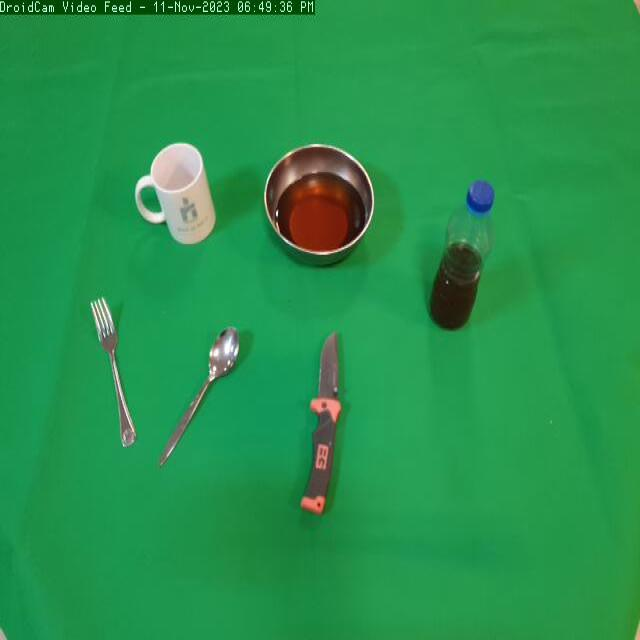cup: (132, 134, 225, 259)
fork: (84, 286, 149, 454)
fullbottle: (424, 175, 500, 346)
fullbowl: (254, 138, 382, 267)
knife: (293, 325, 372, 531)
spoon: (156, 320, 245, 468)
